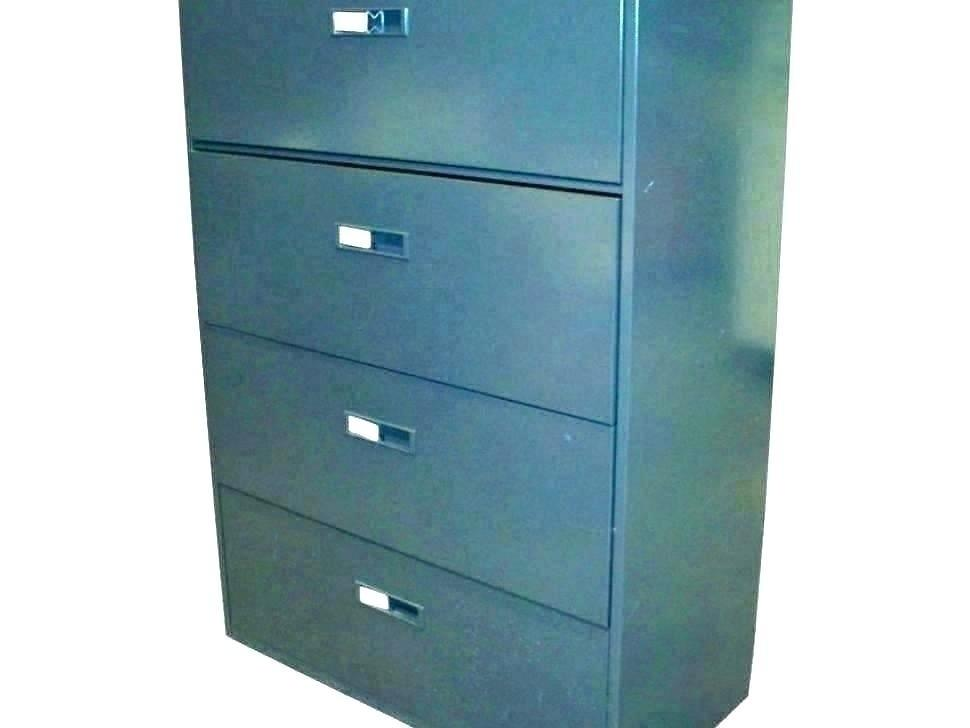cabinet_door: (202, 169, 620, 374), (214, 362, 617, 556), (188, 0, 623, 164), (234, 546, 608, 722)
handle: (339, 404, 421, 461), (330, 221, 416, 267), (348, 580, 428, 627), (325, 5, 410, 42)
